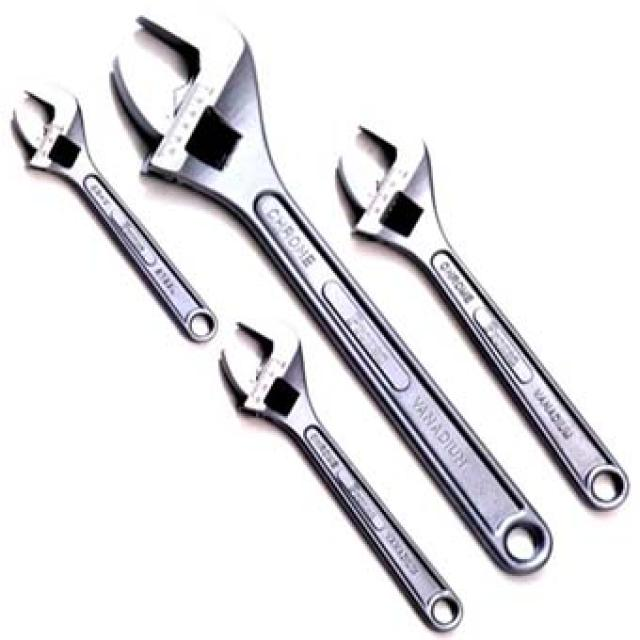wrench: (333, 67, 573, 333), (218, 306, 388, 532)
